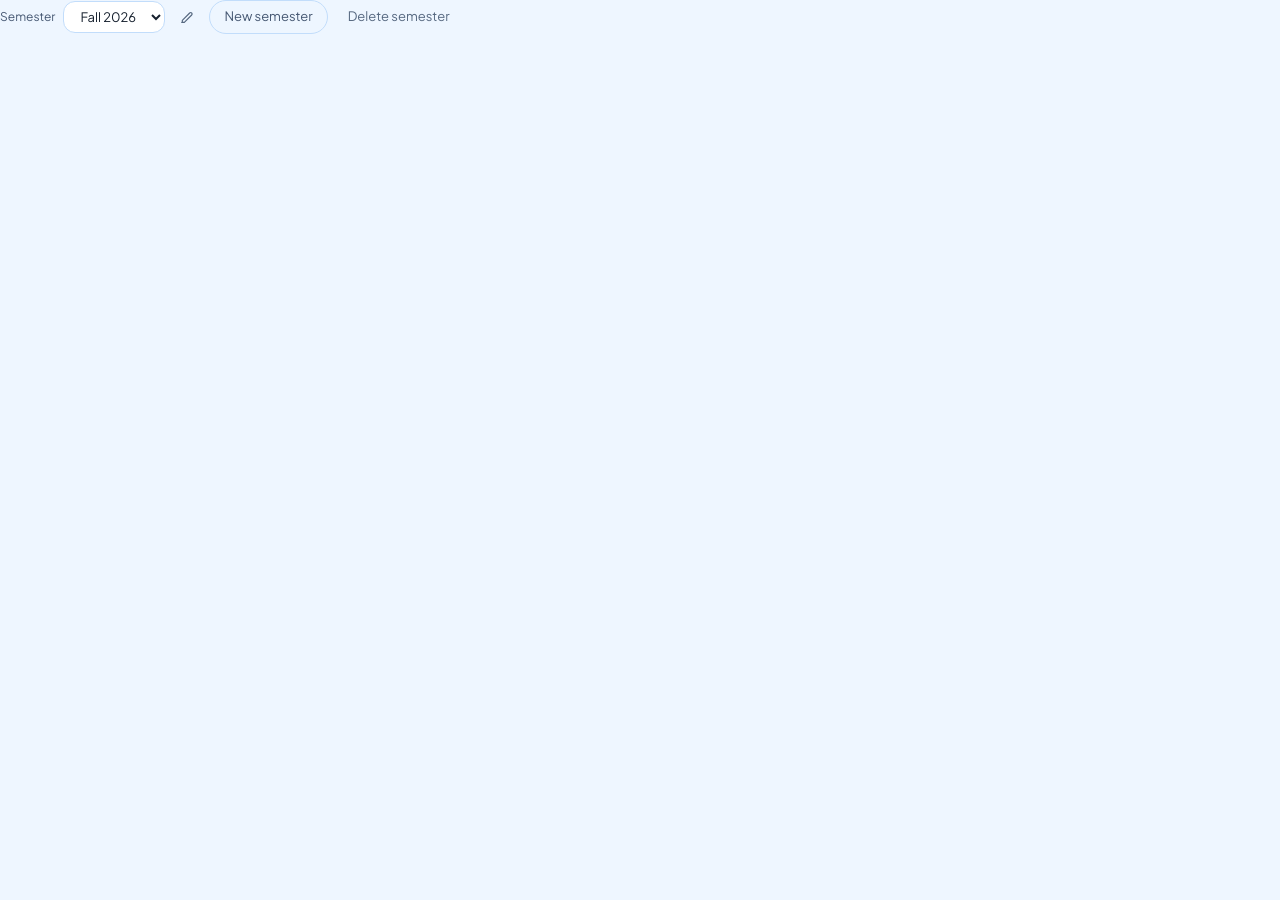
the semester bar › backs out of deleting
The width and height of the screenshot is (1280, 900).
Click the button "Delete semester". click: (399, 17)
box: left=336, top=1, right=462, bottom=32
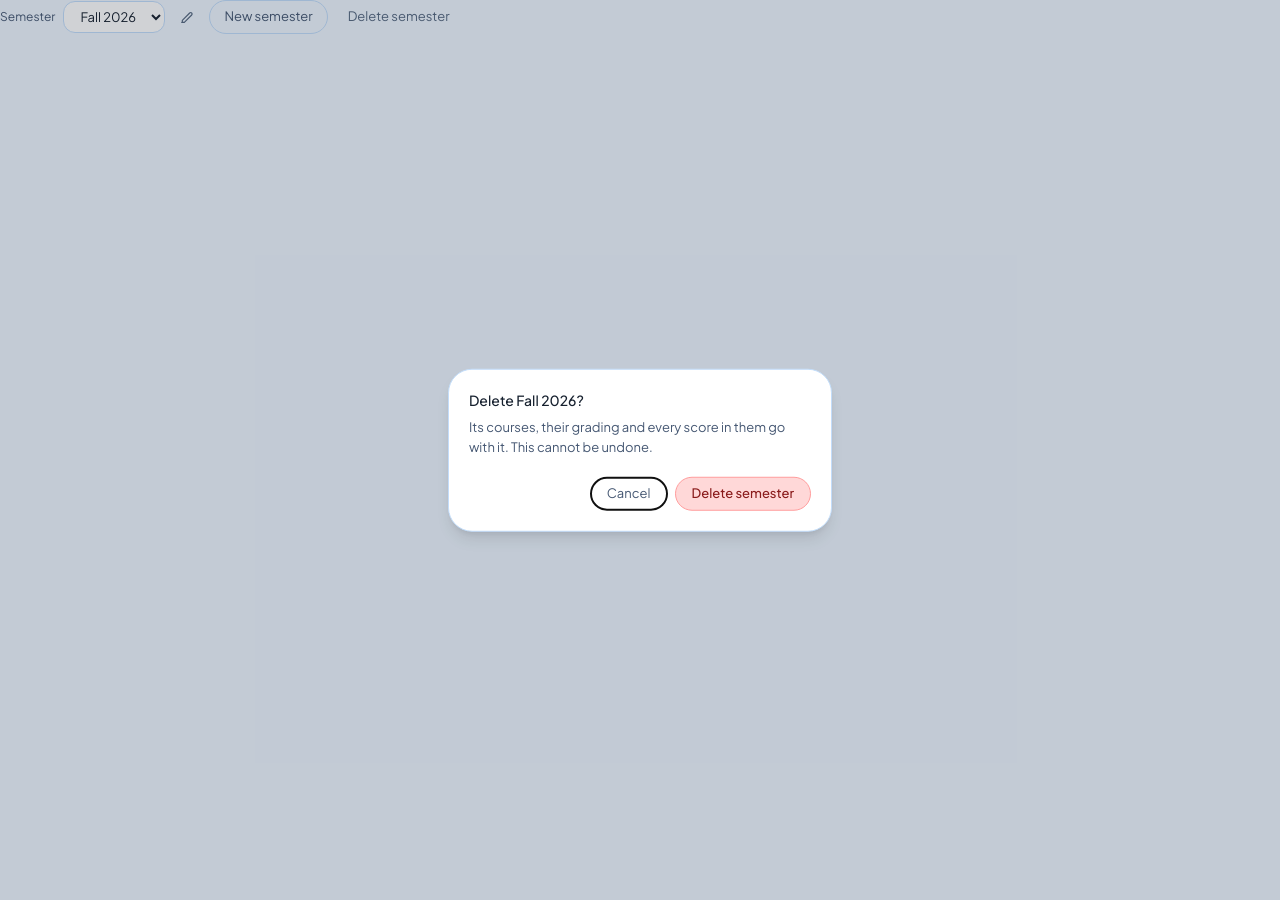
Click the button "Cancel". click: (629, 494)
box: left=591, top=478, right=666, bottom=509
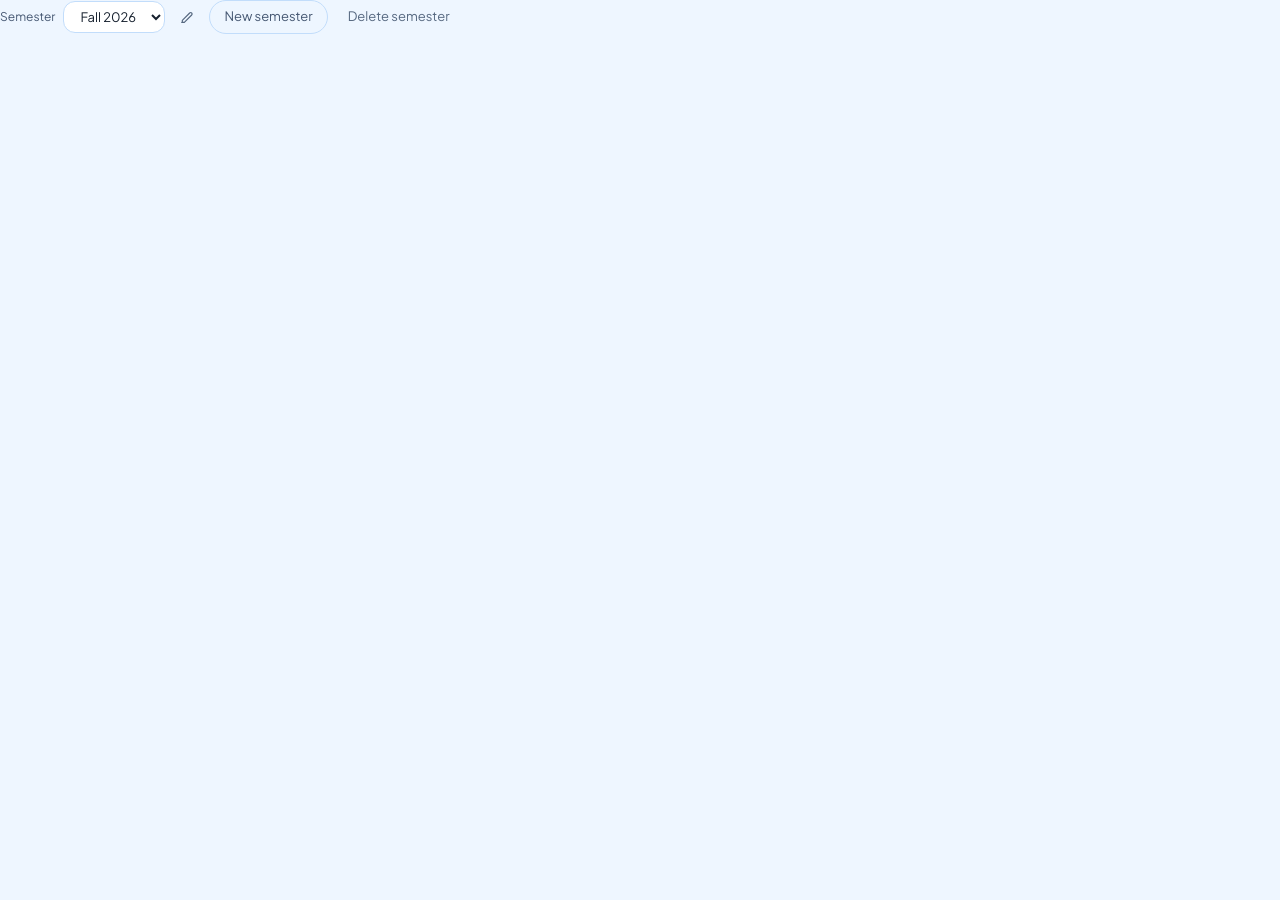
Expected: the dialog is gone
